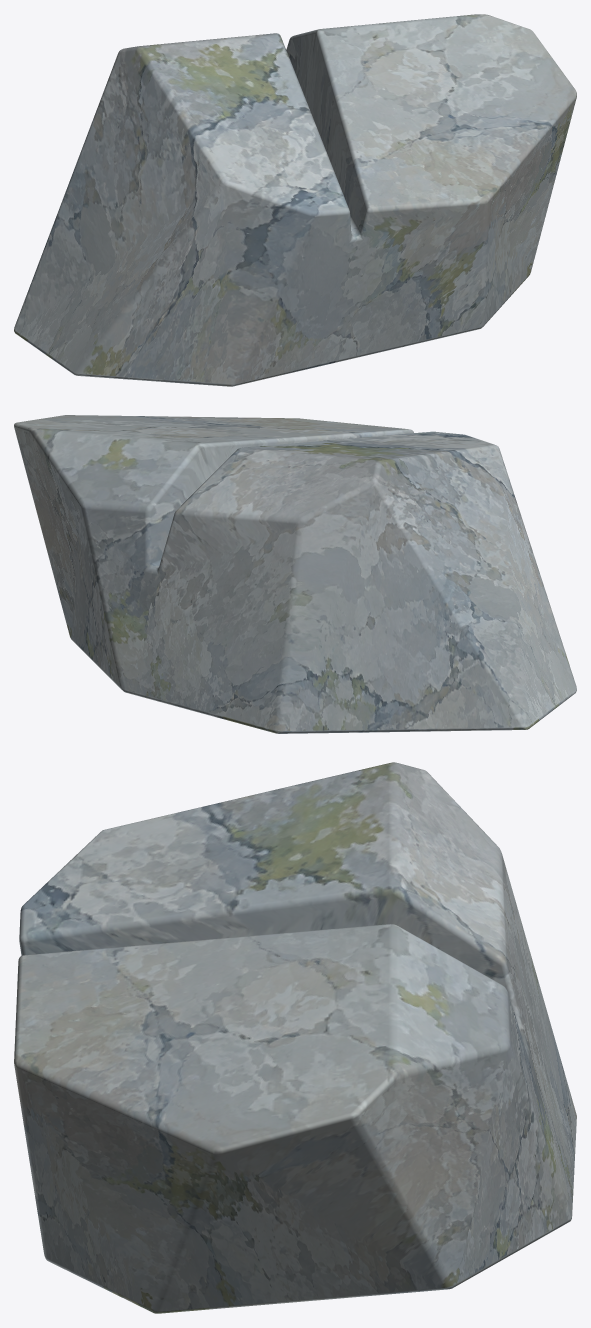
The model's file is SM_FracturedForestRock_04.fbx.
The picture shows the model from 3 angles, top to bottom: view 1: azimuth 30°, elevation 25°; view 2: azimuth 150°, elevation 25°; view 3: azimuth 270°, elevation 25°; orthographic projection. The views are drawn at different scales.
Visible parts, largest first — view 1: SM_FracturedForestRock_04; view 2: SM_FracturedForestRock_04; view 3: SM_FracturedForestRock_04.
Part boxes in pixels (x1,y1,x2,y2): SM_FracturedForestRock_04: (14,14,576,386); SM_FracturedForestRock_04: (14,415,576,733); SM_FracturedForestRock_04: (14,762,576,1313).
Bounding box in the file's own units: 3.22 × 2.15 × 1.49.
